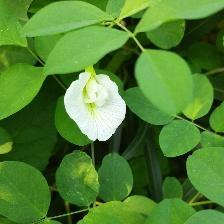shankupushpam: (63, 64, 129, 145)
